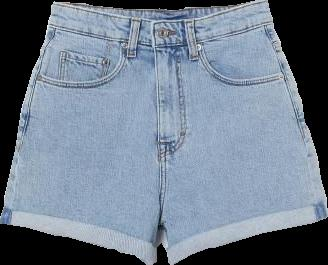Hemline: (170, 215, 327, 264), (1, 221, 153, 264)
Pantleg: (152, 0, 327, 264), (0, 1, 160, 264)
Waistline: (47, 20, 272, 46), (53, 0, 265, 22)
